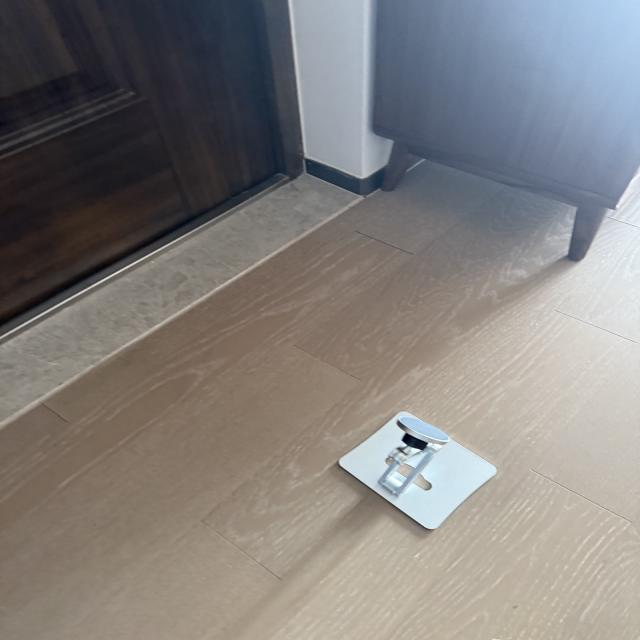phone holder: (326, 406, 502, 536)
